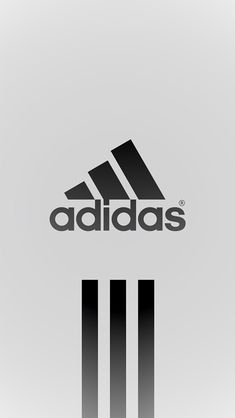adidas Originale: (44, 136, 192, 236)
